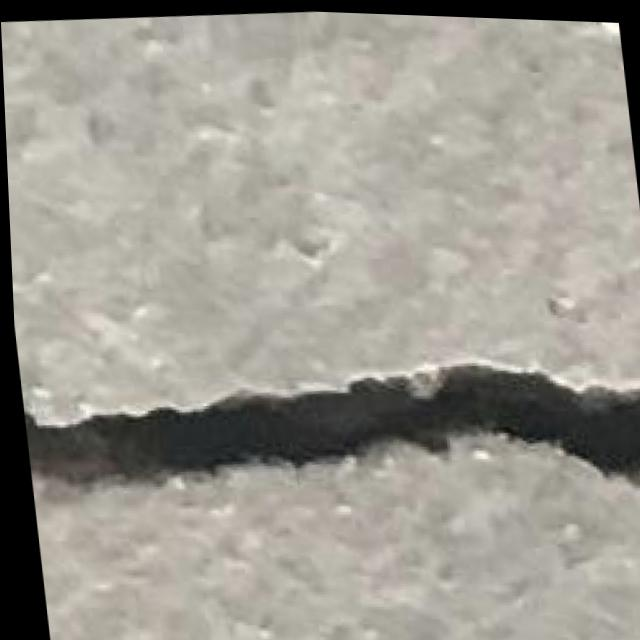Crack: (11, 296, 640, 571)
